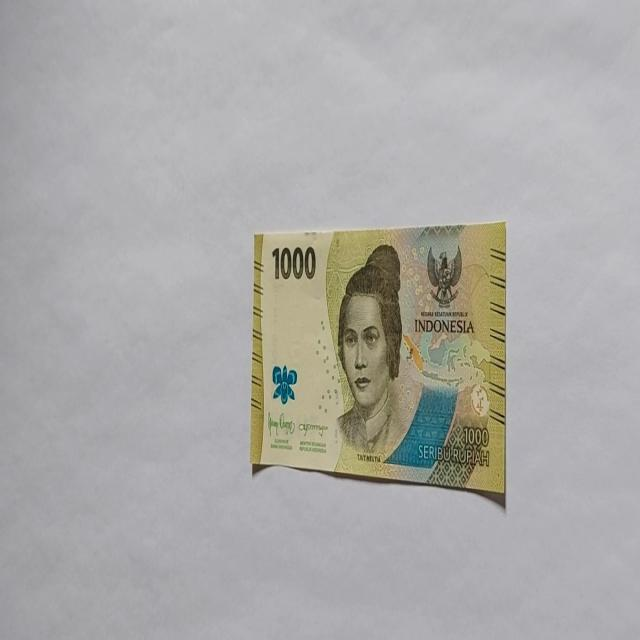seribu rupiah kertas: (249, 221, 507, 504)
